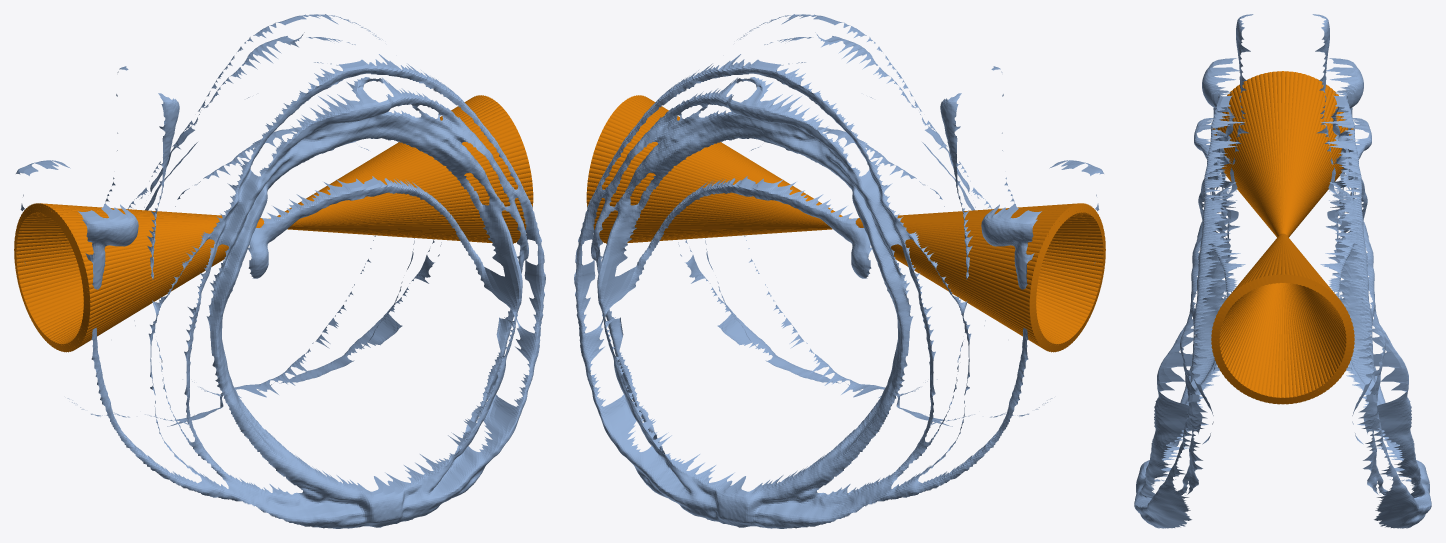
Rendered from A20021012_6145-37-530-7643_DigitalTwin.glb.
The picture shows the model from 3 angles, left to right: view 1: azimuth 30°, elevation 25°; view 2: azimuth 150°, elevation 25°; view 3: azimuth 270°, elevation 25°; orthographic projection. The views are drawn at different scales.
Visible parts, largest first — view 1: world; view 2: world; view 3: world.
Boxes of the visible parts, bbox=[...] form: world: bbox=[14, 14, 545, 528]; world: bbox=[574, 14, 1105, 528]; world: bbox=[1134, 14, 1431, 528].
Bounding box in the file's own units: 217 × 201 × 133.
